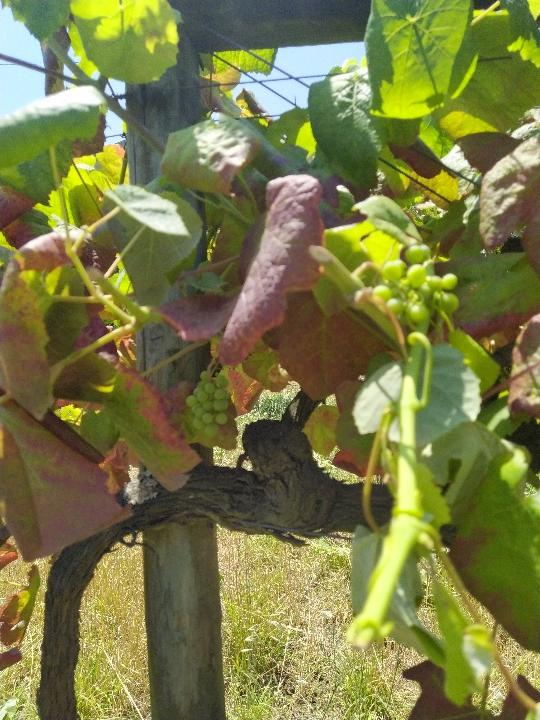grape: (373, 243, 460, 335), (185, 368, 237, 442)
